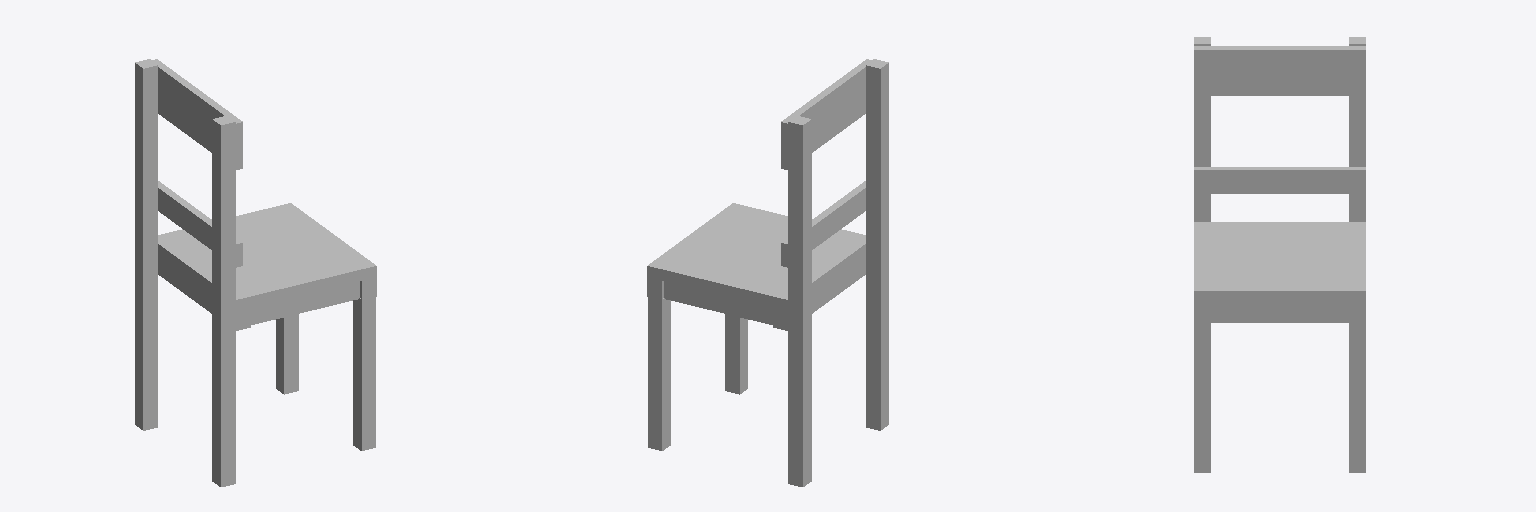
The model's file is School Chairs.obj.
The picture shows the model from 3 angles: view 1: azimuth 30°, elevation 25°; view 2: azimuth 150°, elevation 25°; view 3: azimuth 270°, elevation 25°; orthographic projection.
Bounding box in the file's own units: 0.42 × 0.93 × 0.4.